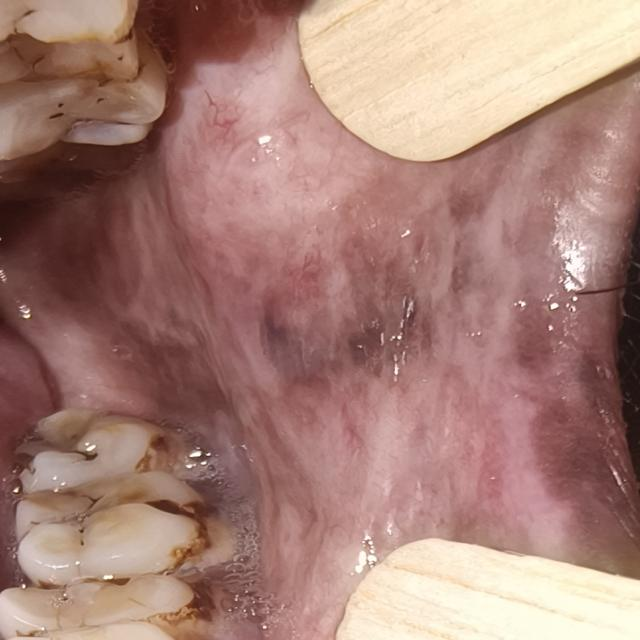leukoplakia-like-detection: (252, 219, 577, 640), (159, 19, 389, 266)
processing_area: (7, 18, 637, 632)
